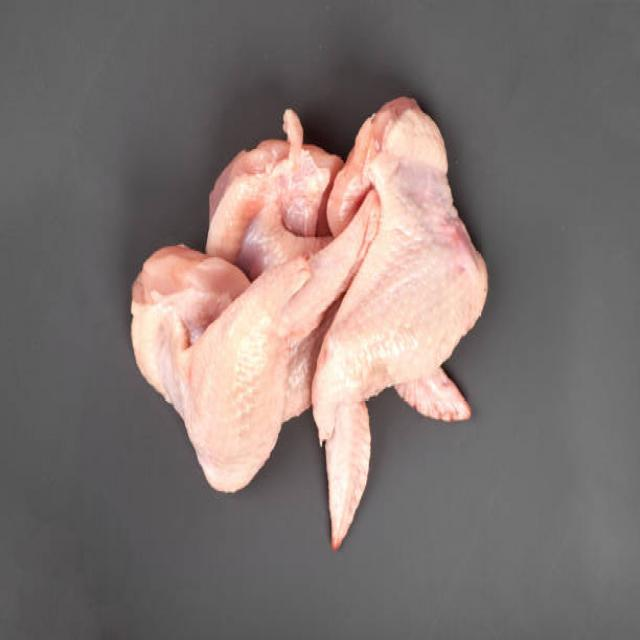Chicken: (314, 100, 500, 548), (126, 211, 352, 489)
